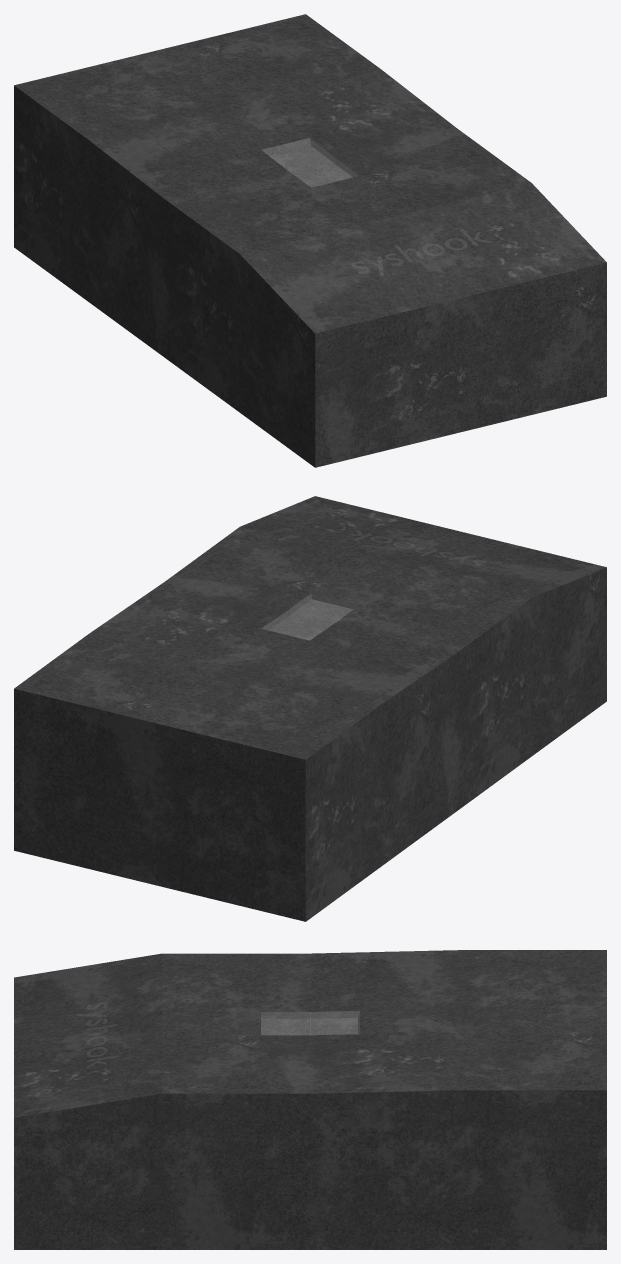
File: card_reader.glb
3 renders of one model, top to bottom at view 1: azimuth 30°, elevation 25°; view 2: azimuth 150°, elevation 25°; view 3: azimuth 270°, elevation 25°, orthographic.
Parts seen in each view (by area): view 1: Cube, Glass, asa; view 2: Cube, Glass; view 3: Cube, Glass, asa.
Part boxes in pixels (<box>): Cube: <box>14,14,606,467</box>; Glass: <box>262,138,358,187</box>; asa: <box>352,229,490,275</box>; Cube: <box>14,496,606,921</box>; Glass: <box>262,593,358,640</box>; Cube: <box>14,950,606,1249</box>; Glass: <box>261,1011,359,1034</box>; asa: <box>76,1002,117,1067</box>.
Bounding box in the file's own units: 2.17 × 1.15 × 3.89.
3 materials, 1 textured.
